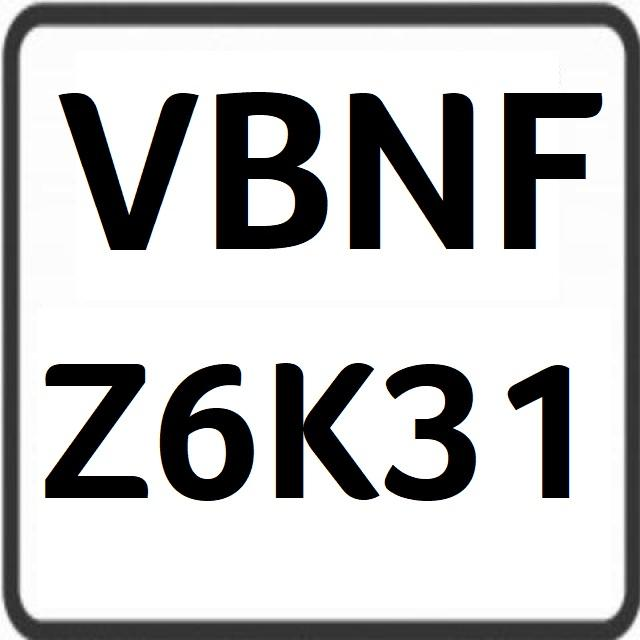B: (209, 82, 329, 270)
F: (501, 70, 605, 255)
K: (269, 337, 374, 514)
N: (342, 70, 479, 261)
V: (60, 69, 204, 269)
Z: (37, 343, 150, 517)
